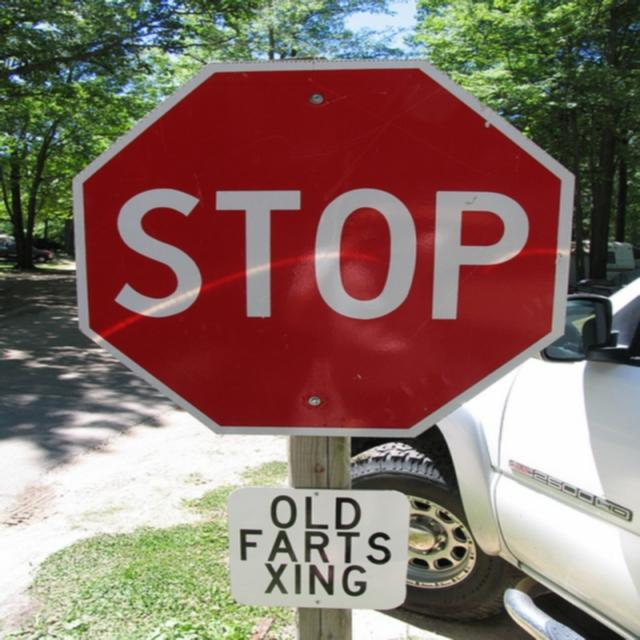car: (339, 275, 633, 639), (1, 240, 51, 262)
truck: (336, 268, 639, 629)
